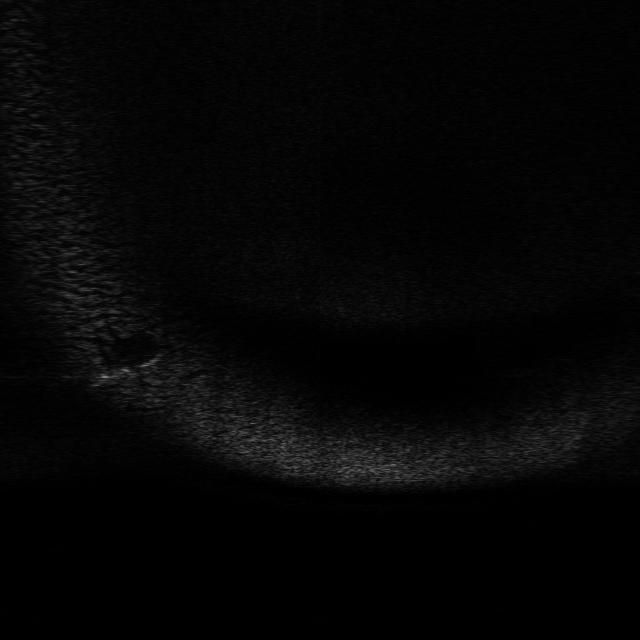plane: (88, 353, 162, 388)
